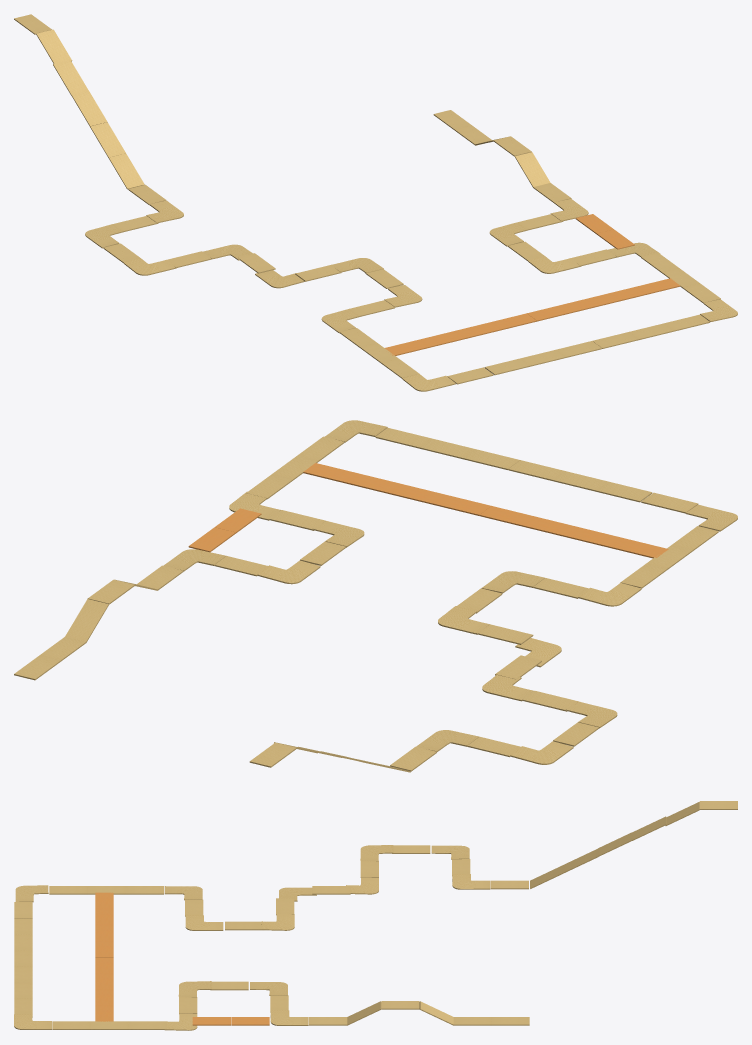
The model's file is stage3.fbx.
3 views of the same model, one above another, from view 1: azimuth 30°, elevation 25°; view 2: azimuth 150°, elevation 25°; view 3: azimuth 270°, elevation 25° (orthographic). The views are drawn at different scales.
Visible parts, largest first — view 1: road.044; view 2: road.044; view 3: road.044.
Boxes of the visible parts, box(x1,y1,x2,y2) form: road.044: box(14, 14, 737, 391); road.044: box(14, 420, 737, 772); road.044: box(14, 801, 737, 1030).
Bounding box in the file's own units: 9914 × 2077 × 16479.
Materials: 60 (60 with a texture image).
